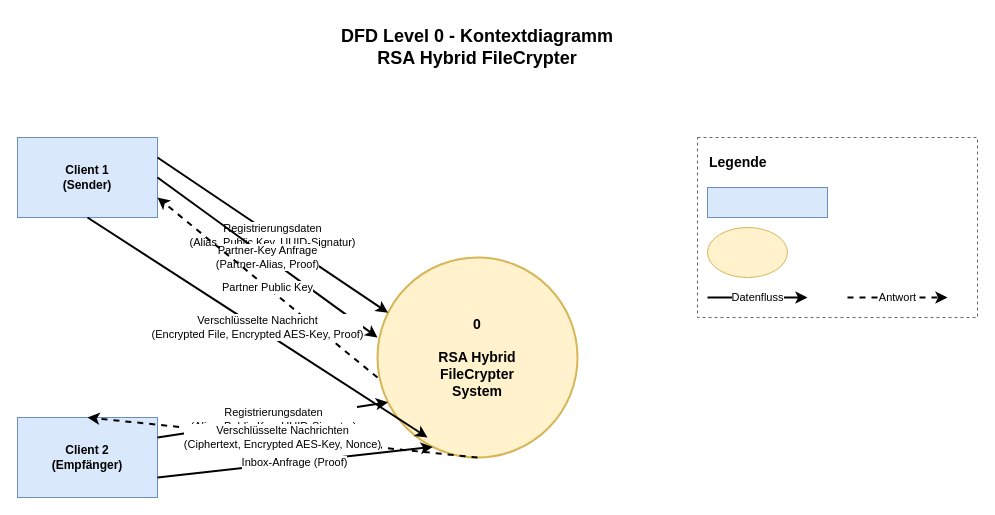
This 995x515 diagram has some shape labels left out. Here are the shapes that lost their labels. From the top down, the centre of each, then its label:
point (767, 202): Externe Entität
point (747, 252): Prozess
